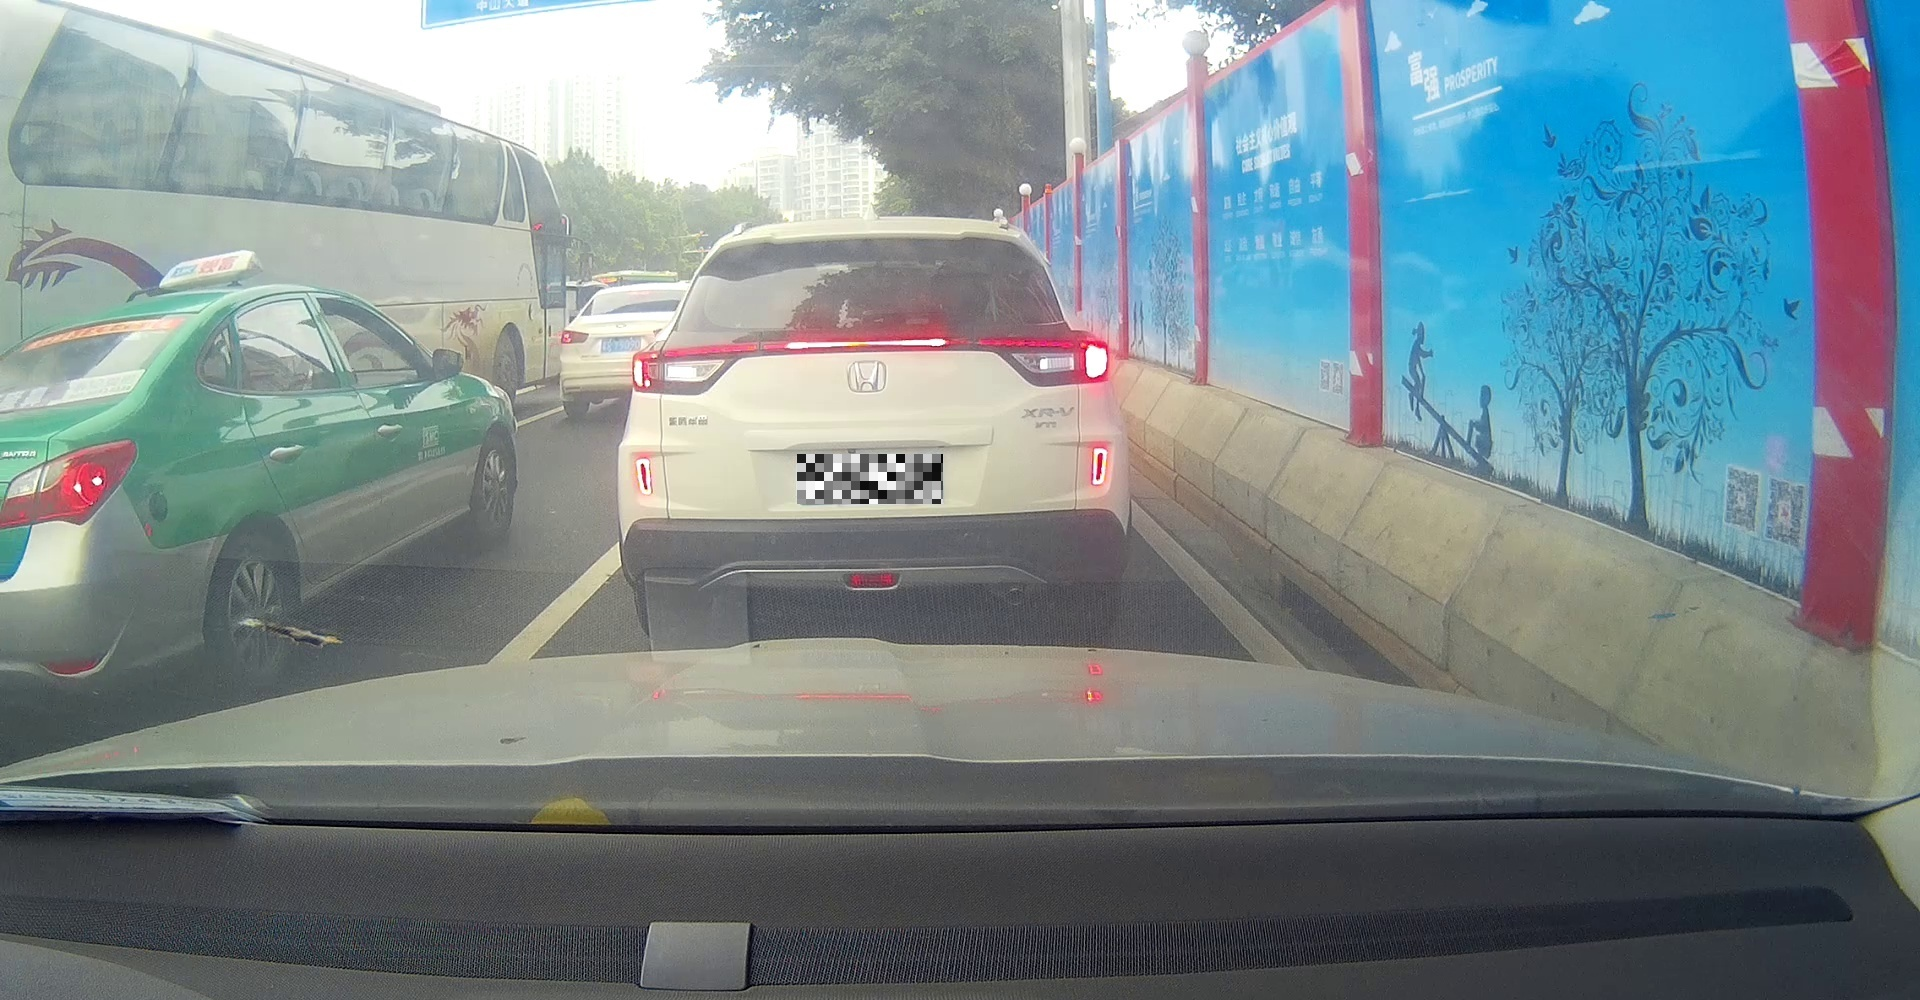L_light: (632, 343, 759, 396)
R_light: (979, 338, 1109, 387)
T_light: (785, 338, 949, 352)
day-brake: (616, 217, 1130, 640)
plate_1: (797, 454, 943, 504)
